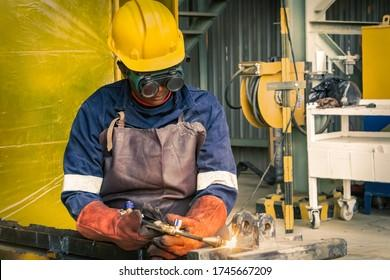gloves: (148, 195, 227, 260), (76, 199, 165, 251)
